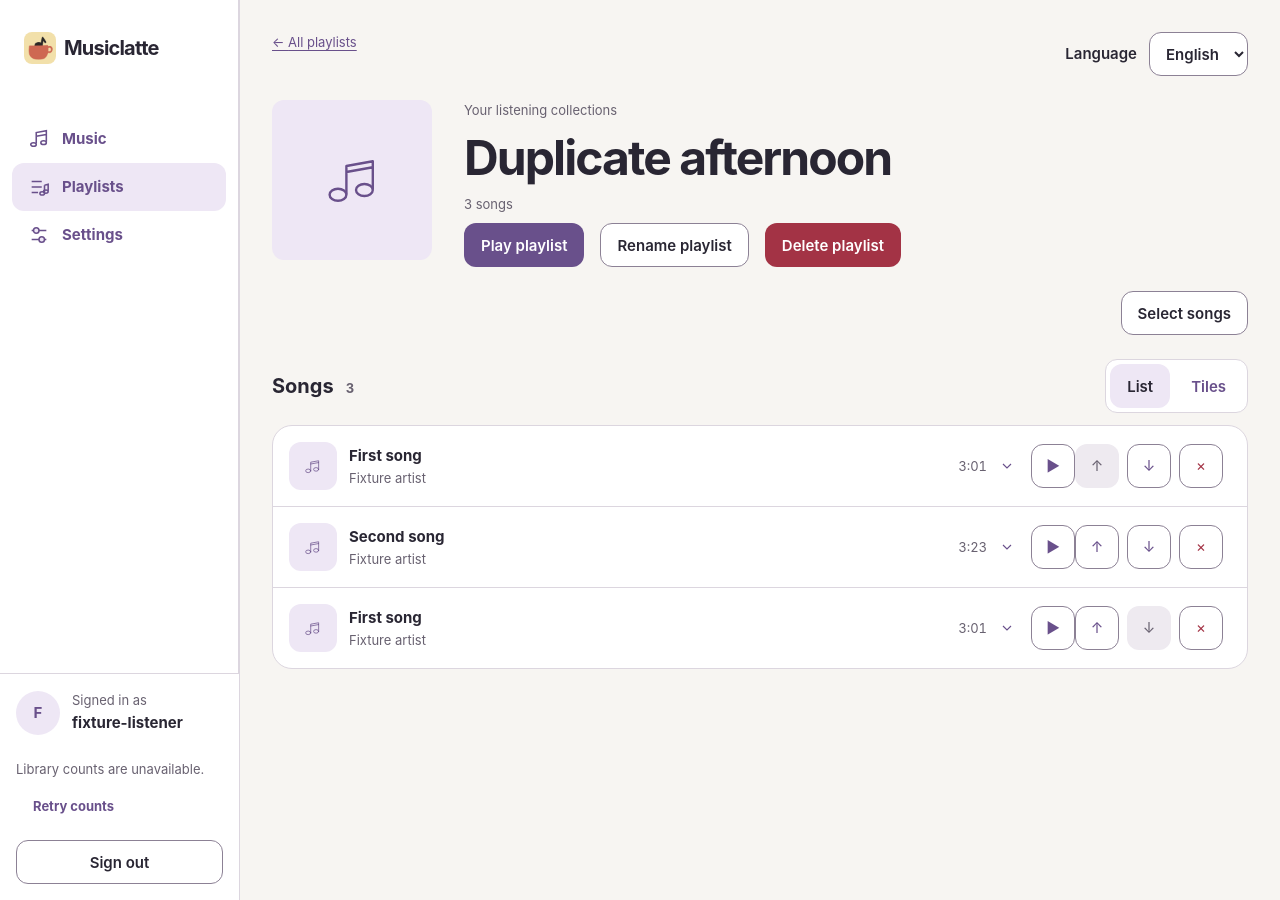
playlist occurrence editing › should not replay an outcome-unknown removal
Click the button named "Remove Second song at position 2". click: [1201, 547]
box: [1179,525,1223,569]
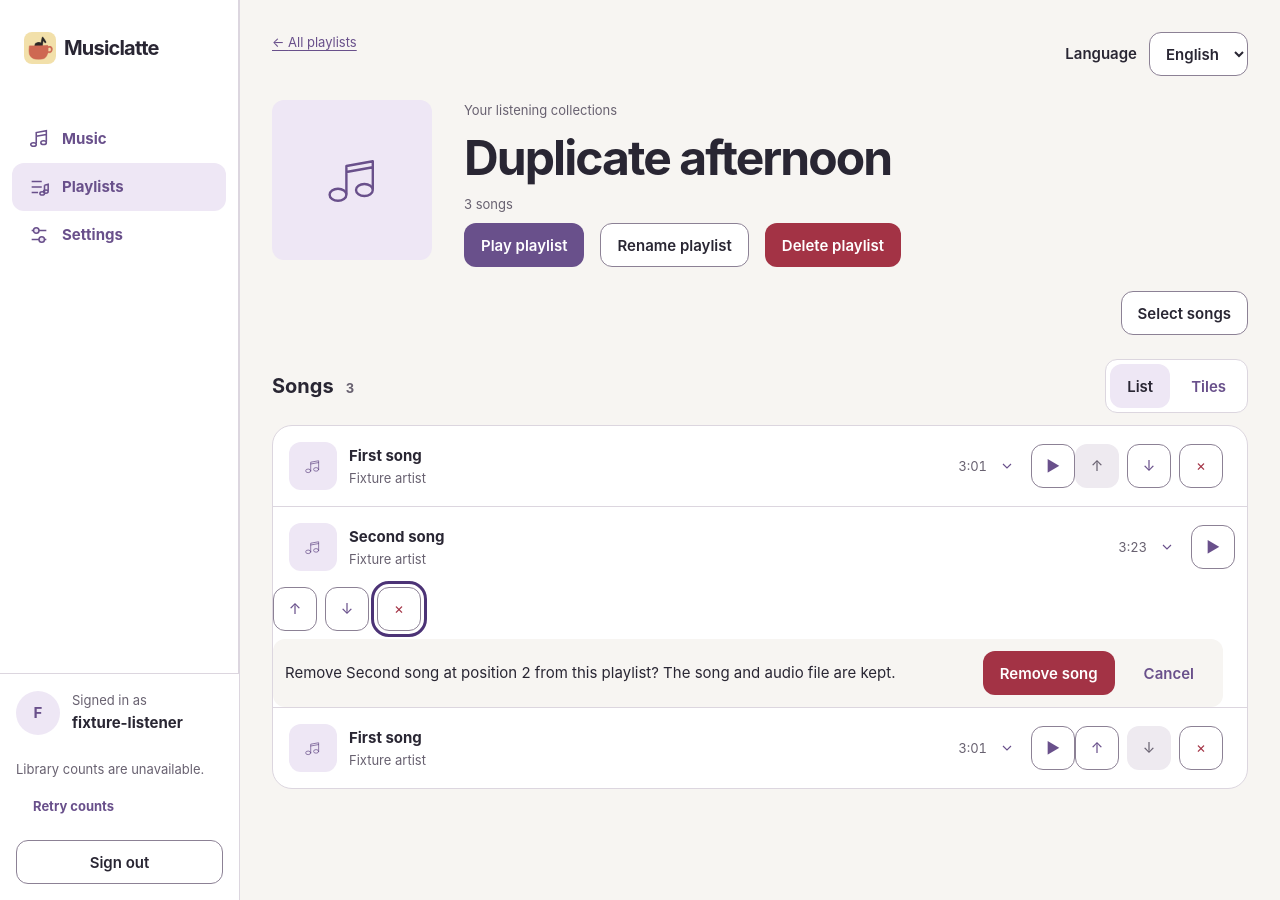
Click the button "Remove song". click: [1049, 673]
box: [983,651,1115,695]
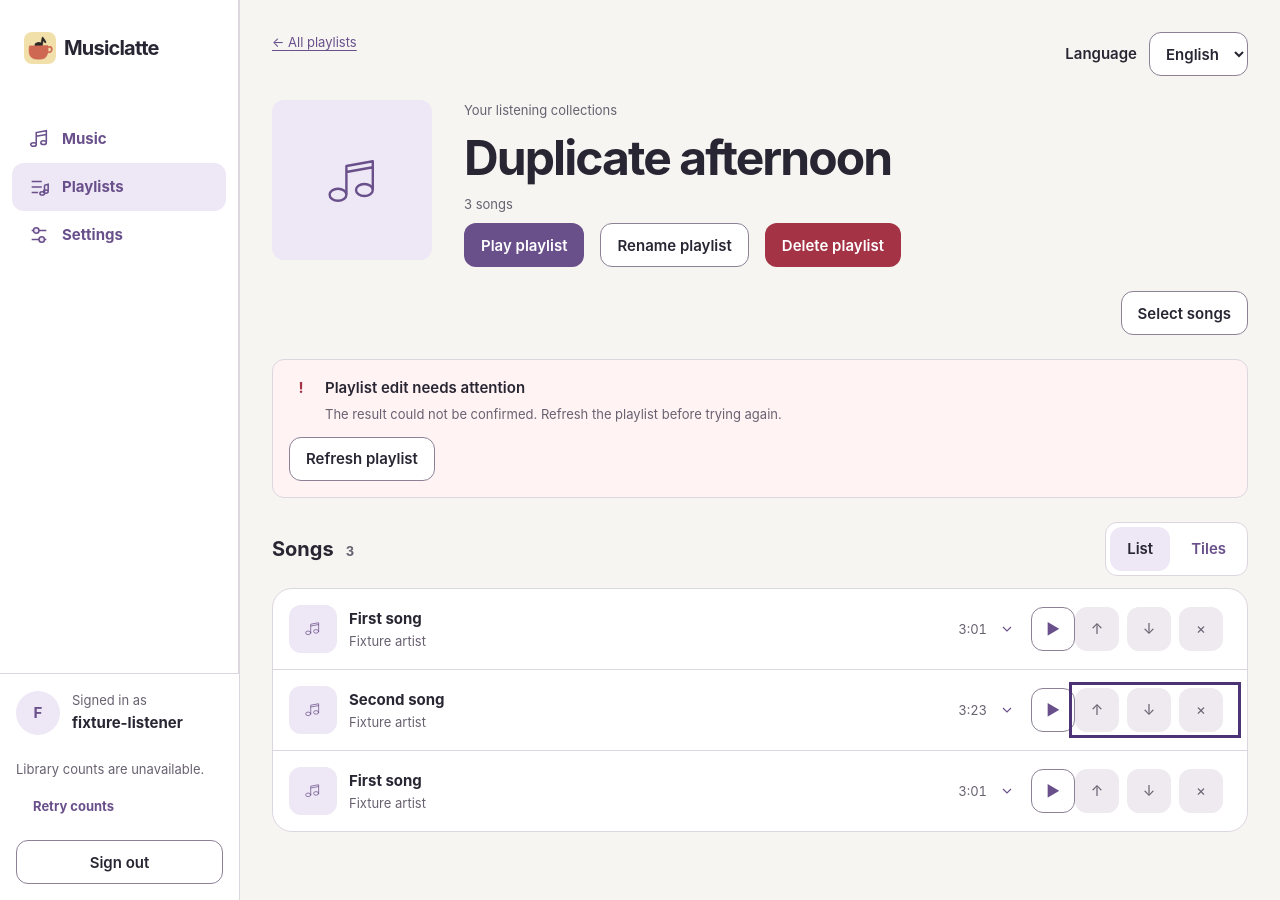
expect the text "could not be confirmed" is shown: met, box [325,406,782,422]
expect the button "Remove song" is gone: met
expect the button named "Remove Second song at position 2" is disabled: met, box [1179,688,1223,732]
